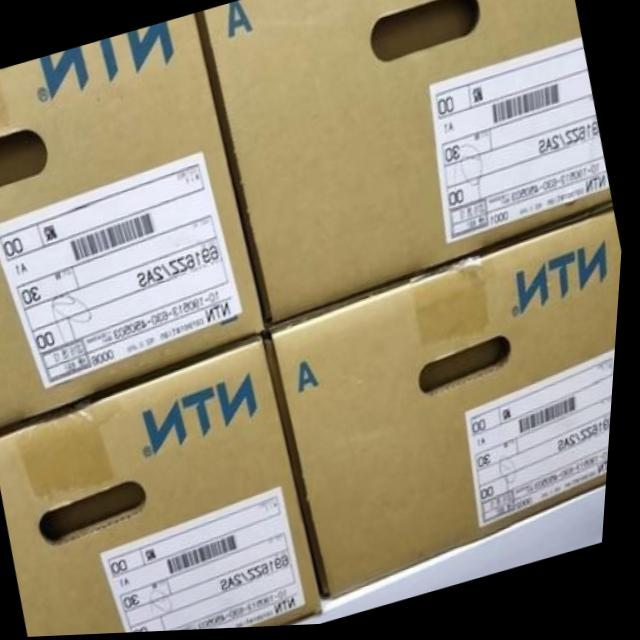box: (266, 208, 625, 602), (203, 0, 615, 327), (0, 14, 270, 427), (0, 339, 332, 638)
